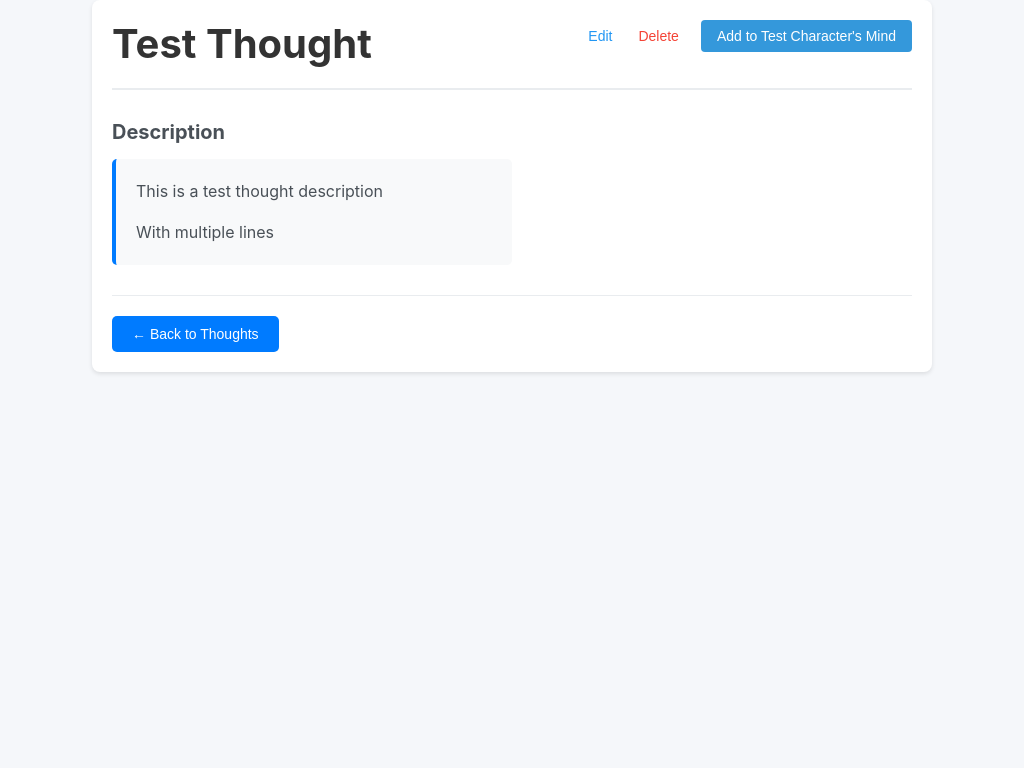
Test: ThoughtView Component › Add to Character Mind › handles graphQL error message
The width and height of the screenshot is (1024, 768).
Check: the heading "Test Thought" is shown, box [112,20,372,68]
Click the button "Add to Test Character's Mind". click: coordinates (806, 36)
box: [701,20,912,52]
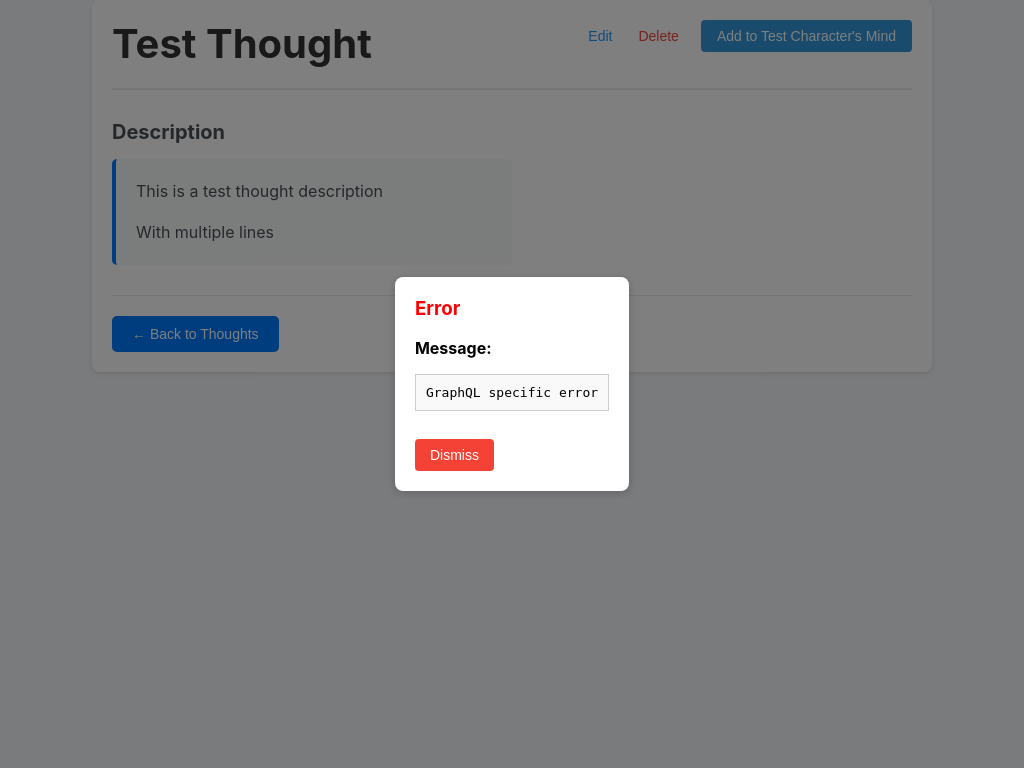
Check: the text "GraphQL specific error" is shown, box [415,374,609,411]
